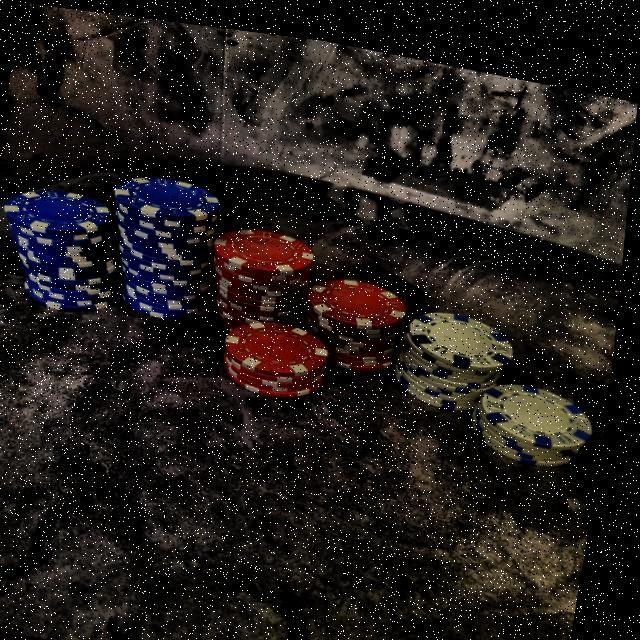Chip: (96, 157, 232, 329), (0, 172, 130, 321), (391, 286, 522, 410), (294, 257, 423, 373), (207, 210, 322, 340), (471, 355, 606, 463), (220, 300, 343, 406)
